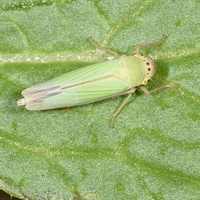insect: (17, 35, 166, 124)
